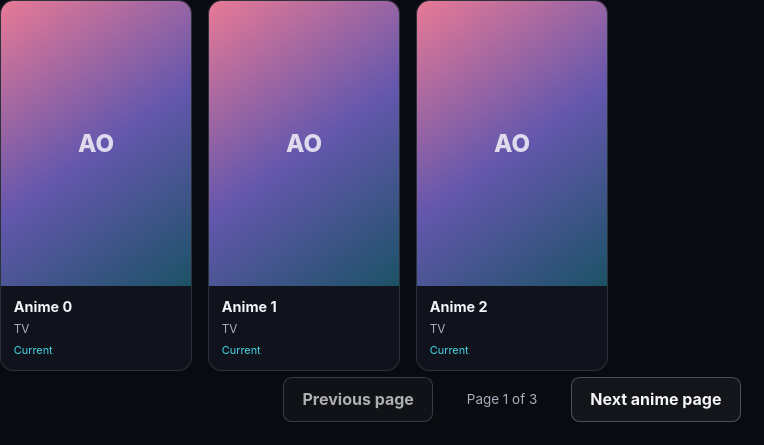
Scenario: AnimeGrid › keeps a fixed-size DOM window while paging through very large libraries
Expected: the number of elements with test id "anime-card" is 3, 0,0 -> 192,371; 208,0 -> 400,371; 416,0 -> 608,371
Expected: the text "Page 1 of 3" is shown, 467,391 -> 537,407
Click the button "Next anime page" at [656, 399], box 571,377 -> 741,422
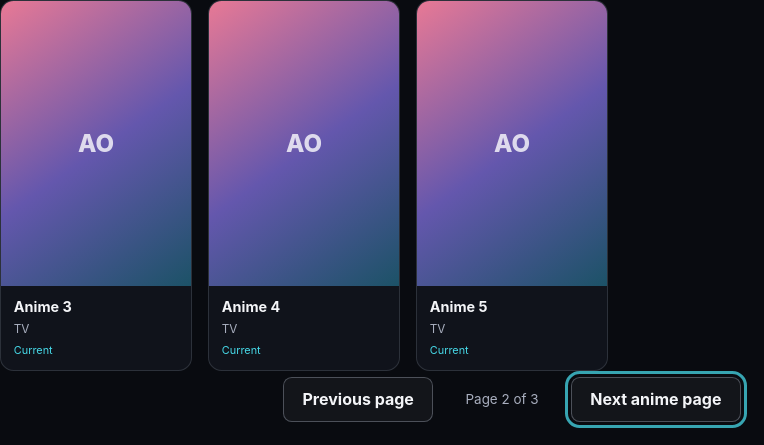
Expected: the number of elements with test id "anime-card" is 3, 0,0 -> 192,371; 208,0 -> 400,371; 416,0 -> 608,371
Result: the link "Anime 0" is gone
Result: the link "AO Anime 3 TV Current" is shown at 1,1 -> 191,370
Click the button "Next anime page" at [656, 399], box 571,377 -> 741,422
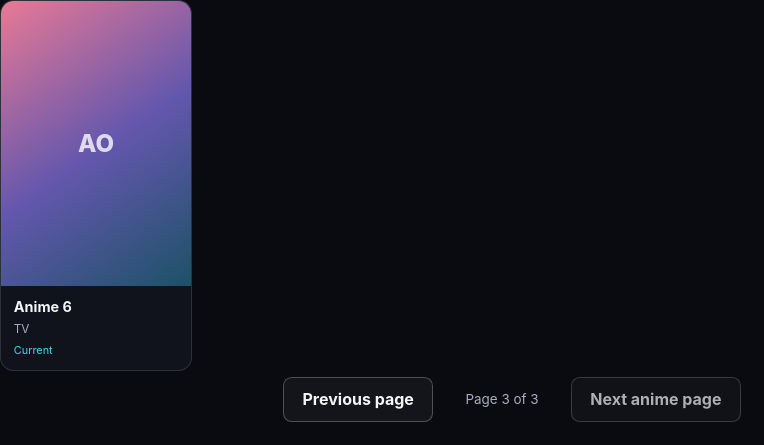
Result: the number of elements with test id "anime-card" is 1 at 0,0 -> 192,371
Result: the text "Page 3 of 3" is shown at 465,391 -> 539,407
